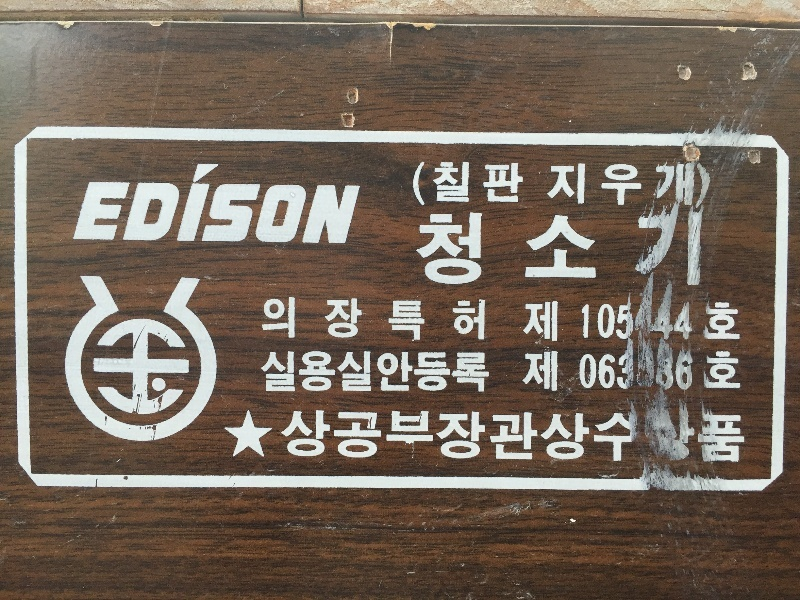text: (97, 161, 112, 250), (113, 161, 128, 250), (129, 161, 144, 250), (145, 161, 160, 250), (161, 161, 176, 250), (177, 161, 192, 250), (193, 161, 208, 250), (209, 161, 224, 250), (225, 161, 240, 250), (241, 161, 256, 250), (257, 161, 272, 250), (273, 161, 288, 250), (289, 161, 304, 250), (305, 161, 320, 250), (321, 161, 336, 250), (337, 161, 352, 250), (417, 212, 432, 288), (433, 212, 448, 288), (449, 212, 464, 288), (465, 212, 480, 288), (481, 212, 496, 288), (497, 212, 512, 288), (513, 212, 528, 288), (529, 212, 544, 288), (545, 212, 560, 288), (561, 212, 576, 288), (577, 212, 592, 288), (593, 212, 608, 288), (609, 212, 624, 288), (625, 212, 640, 288), (641, 212, 656, 288), (657, 212, 672, 288), (673, 212, 688, 288), (689, 212, 704, 288), (353, 161, 364, 250), (289, 408, 304, 469), (305, 408, 320, 469), (321, 408, 336, 469), (337, 408, 352, 469), (353, 408, 368, 469), (369, 408, 384, 469), (385, 408, 400, 469), (401, 408, 416, 469), (417, 408, 432, 469), (433, 408, 448, 469), (449, 408, 464, 469), (465, 408, 480, 469), (481, 408, 496, 469), (497, 408, 512, 469), (513, 408, 528, 469), (529, 408, 544, 469), (545, 408, 560, 469), (561, 408, 576, 469), (577, 408, 592, 469), (593, 408, 608, 469), (609, 408, 624, 469), (625, 408, 640, 469), (641, 408, 656, 469), (657, 408, 672, 469), (673, 408, 688, 469), (689, 408, 704, 469), (705, 408, 720, 469), (721, 408, 736, 469), (417, 160, 432, 209), (433, 160, 448, 209), (449, 160, 464, 209), (465, 160, 480, 209), (481, 160, 496, 209), (497, 160, 512, 209), (561, 162, 576, 211), (577, 162, 592, 211), (593, 162, 608, 211), (609, 162, 624, 211), (625, 162, 640, 211), (641, 162, 656, 211), (657, 162, 672, 211), (673, 162, 688, 211), (689, 162, 704, 211), (88, 161, 96, 250), (273, 351, 288, 395), (289, 351, 304, 395), (305, 351, 320, 395), (321, 351, 336, 395), (337, 351, 352, 395), (353, 351, 368, 395), (369, 351, 384, 395), (385, 351, 400, 395), (401, 351, 416, 395), (417, 351, 432, 395), (433, 351, 448, 395), (449, 351, 464, 395), (465, 351, 480, 395), (273, 297, 288, 341), (289, 297, 304, 341), (305, 297, 320, 341), (321, 297, 336, 341), (337, 297, 352, 341), (353, 297, 368, 341), (369, 297, 384, 341), (385, 297, 400, 341), (401, 297, 416, 341), (417, 297, 432, 341), (433, 297, 448, 341), (449, 297, 464, 341), (465, 297, 480, 341), (529, 301, 544, 343), (545, 301, 560, 343), (593, 301, 608, 343), (609, 301, 624, 343), (625, 301, 640, 343), (641, 301, 656, 343), (657, 301, 672, 343), (673, 301, 688, 343), (689, 301, 704, 343), (705, 301, 720, 343), (721, 301, 736, 343), (593, 349, 608, 391), (609, 349, 624, 391), (625, 349, 640, 391), (641, 349, 656, 391), (657, 349, 672, 391), (673, 349, 688, 391), (689, 349, 704, 391), (705, 349, 720, 391), (721, 349, 736, 391), (737, 408, 747, 469), (513, 160, 524, 209), (550, 162, 560, 211), (280, 408, 288, 469), (261, 351, 272, 395), (261, 297, 272, 341), (581, 349, 592, 391), (582, 301, 592, 343), (481, 351, 490, 395), (705, 162, 712, 211), (481, 297, 487, 341), (411, 160, 416, 209), (523, 301, 528, 343), (737, 301, 742, 343), (737, 349, 742, 391)
